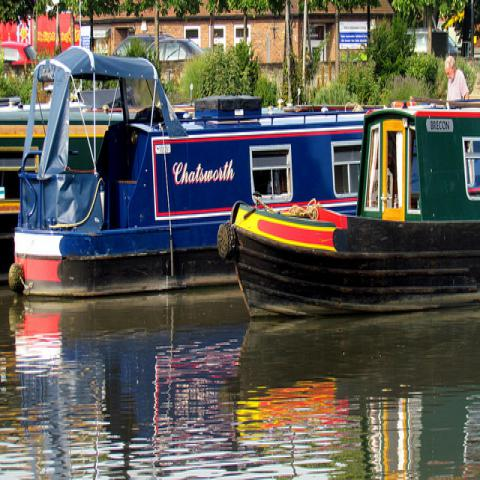car: (401, 28, 458, 60), (110, 34, 173, 57), (144, 38, 204, 60), (0, 38, 40, 69)
